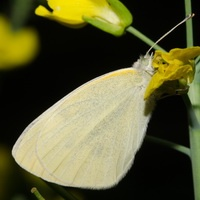insect: (12, 47, 199, 188)
